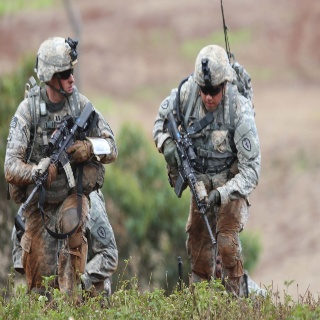rifle: (14, 101, 94, 231), (165, 110, 219, 246)
